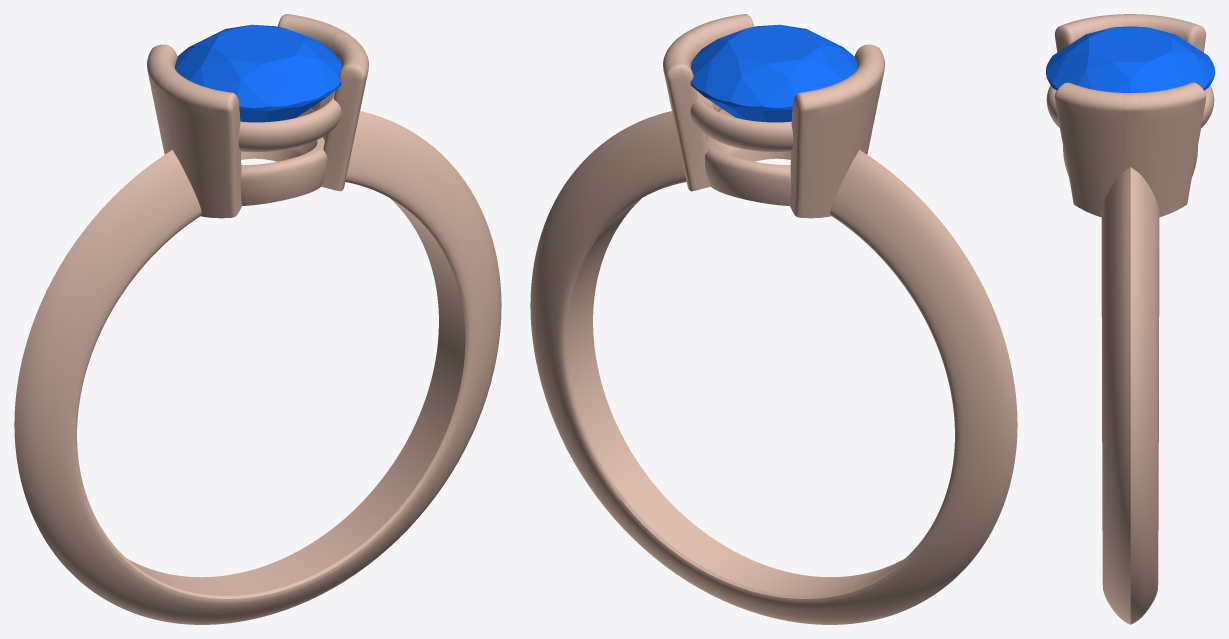
The model's file is bluesapphire-round-rosegold-halfmoonbezel-knifeedge-nosidestones.glb.
3 renders of one model, left to right at view 1: azimuth 30°, elevation 25°; view 2: azimuth 150°, elevation 25°; view 3: azimuth 270°, elevation 25°, orthographic. The views are drawn at different scales.
Visible parts, largest first — view 1: metal, stone; view 2: metal, stone; view 3: metal, stone.
Part boxes in pixels (x1,y1,x2,y2): metal: [14, 14, 501, 624]; stone: [175, 24, 341, 122]; metal: [530, 14, 1017, 624]; stone: [690, 24, 856, 122]; metal: [1046, 14, 1214, 624]; stone: [1046, 26, 1214, 92].
Bounding box in the file's own units: 20.7 × 23.31 × 6.44.
